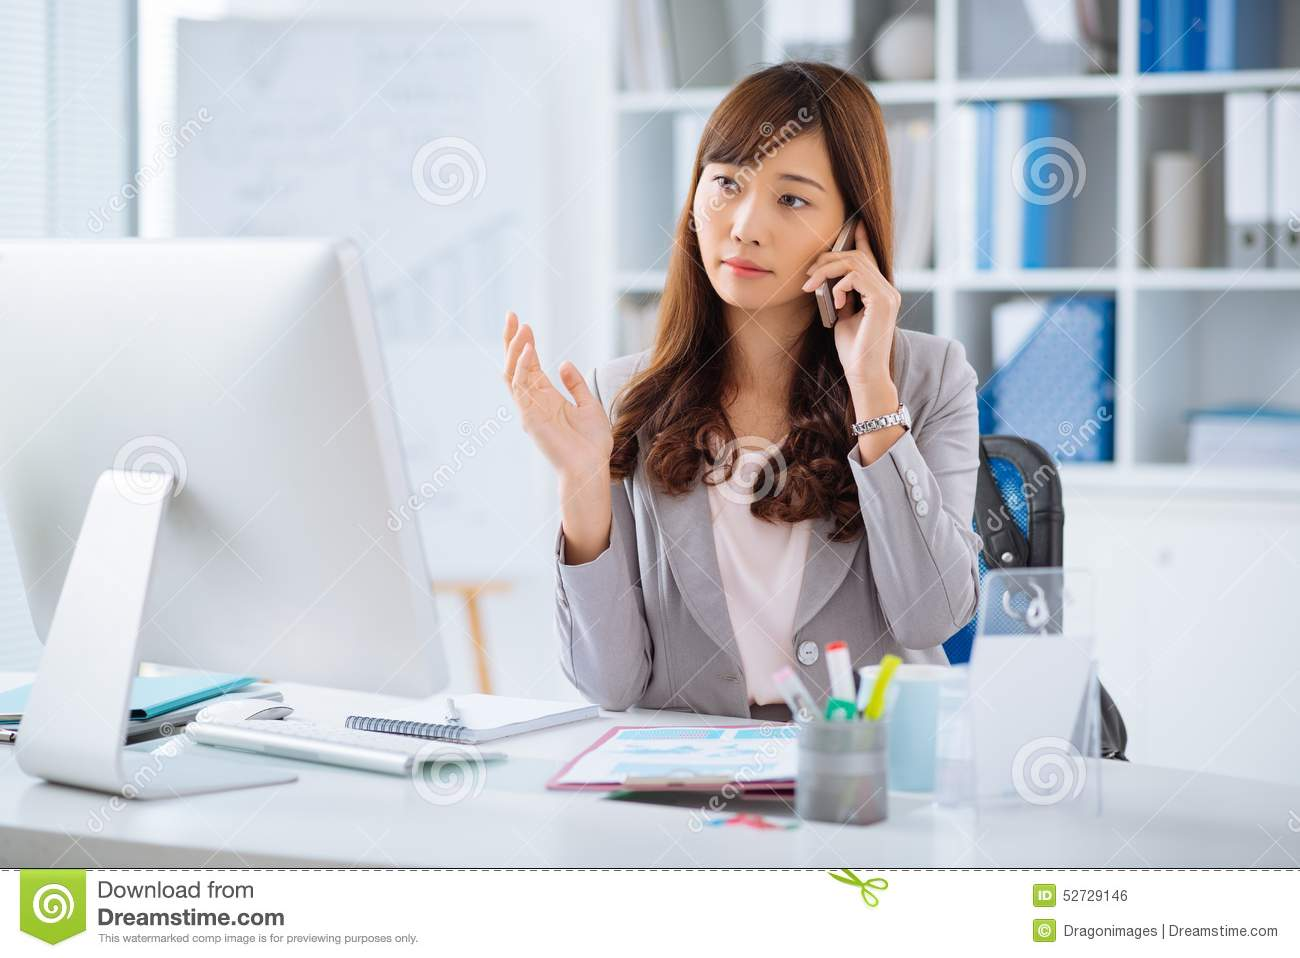phone: (813, 210, 858, 333)
talk: (691, 151, 900, 406)
